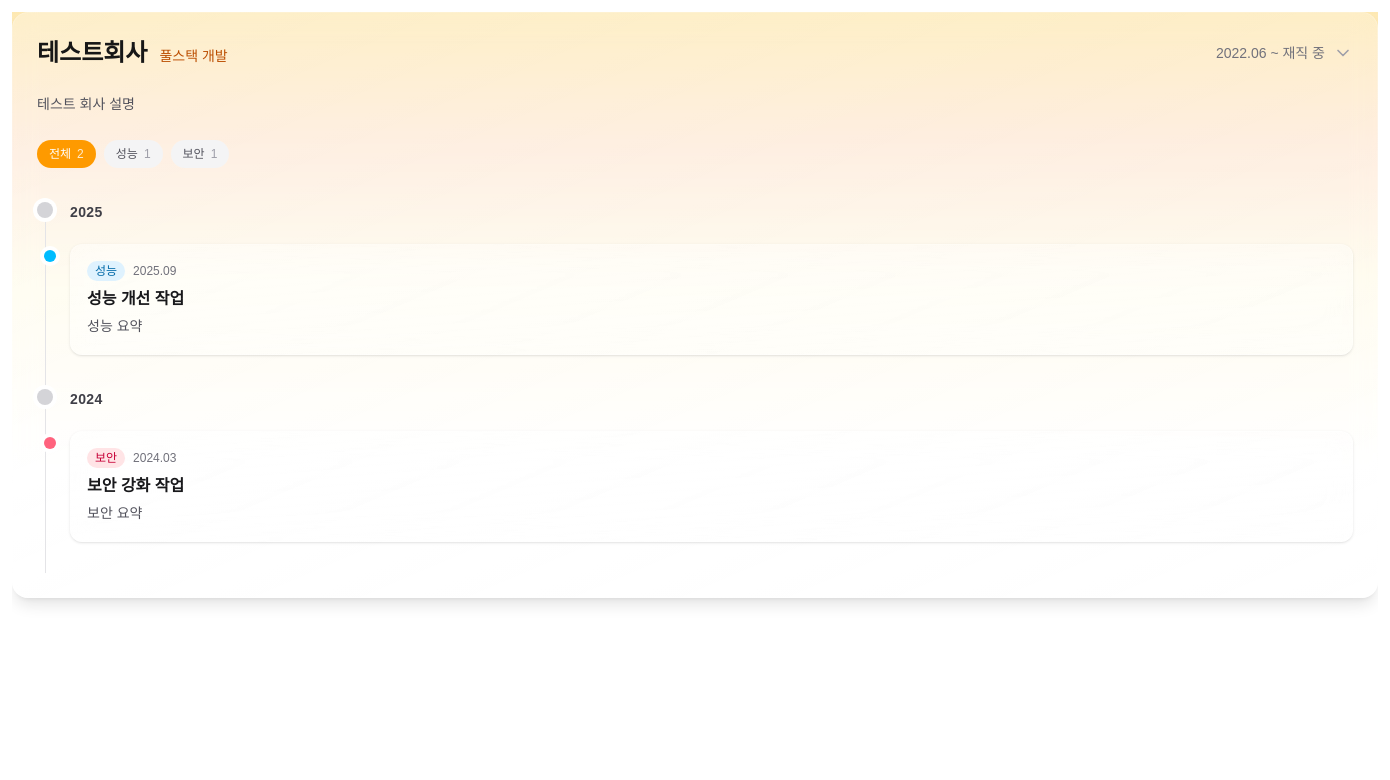
Test: CareerSection › 헤더 클릭 시 접힌다 (aria-expanded=false, 영역 숨김)
Click the button "테스트회사 풀스택 개발 2022.06 ~ 재직 중". click: (92, 52)
box: [13,13,1377,93]
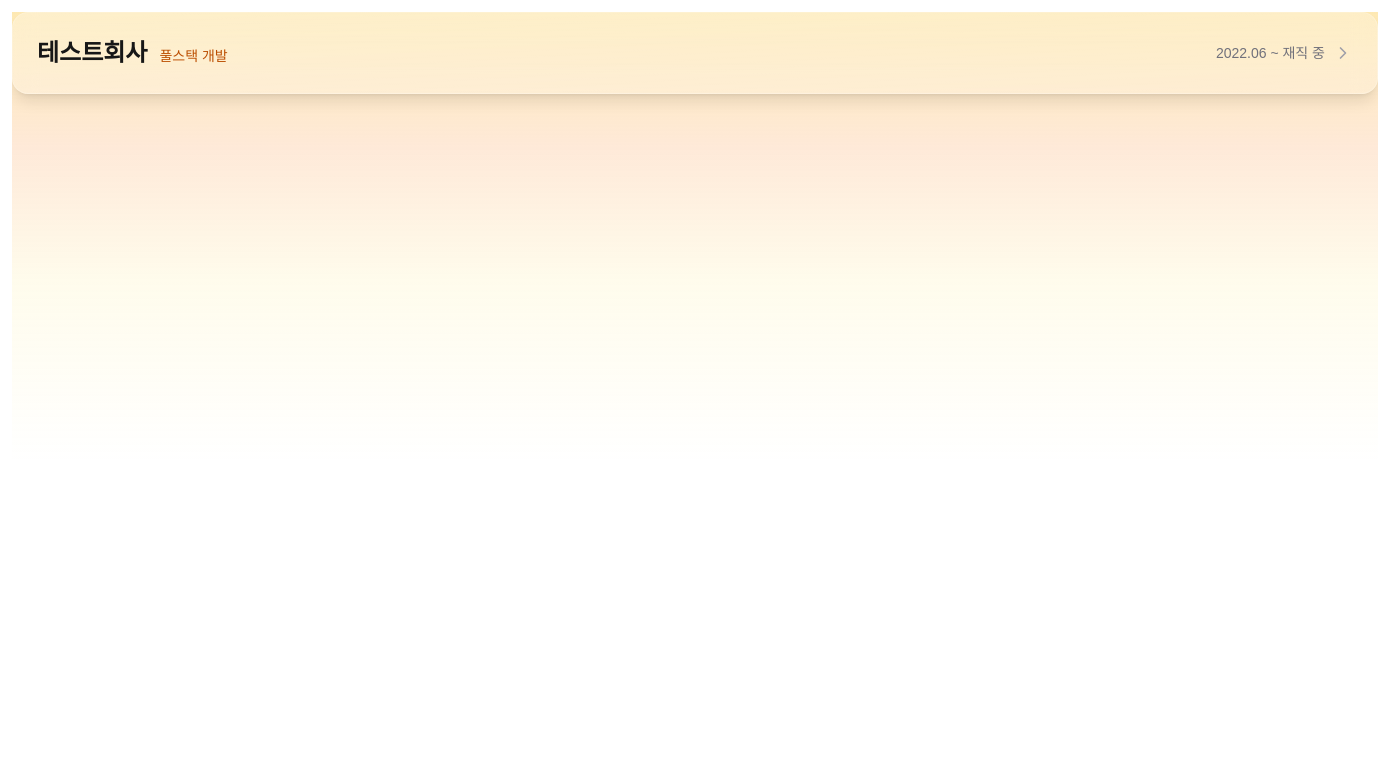
Now the button "테스트회사 풀스택 개발 2022.06 ~ 재직 중" is collapsed, box [13,13,1377,93]
